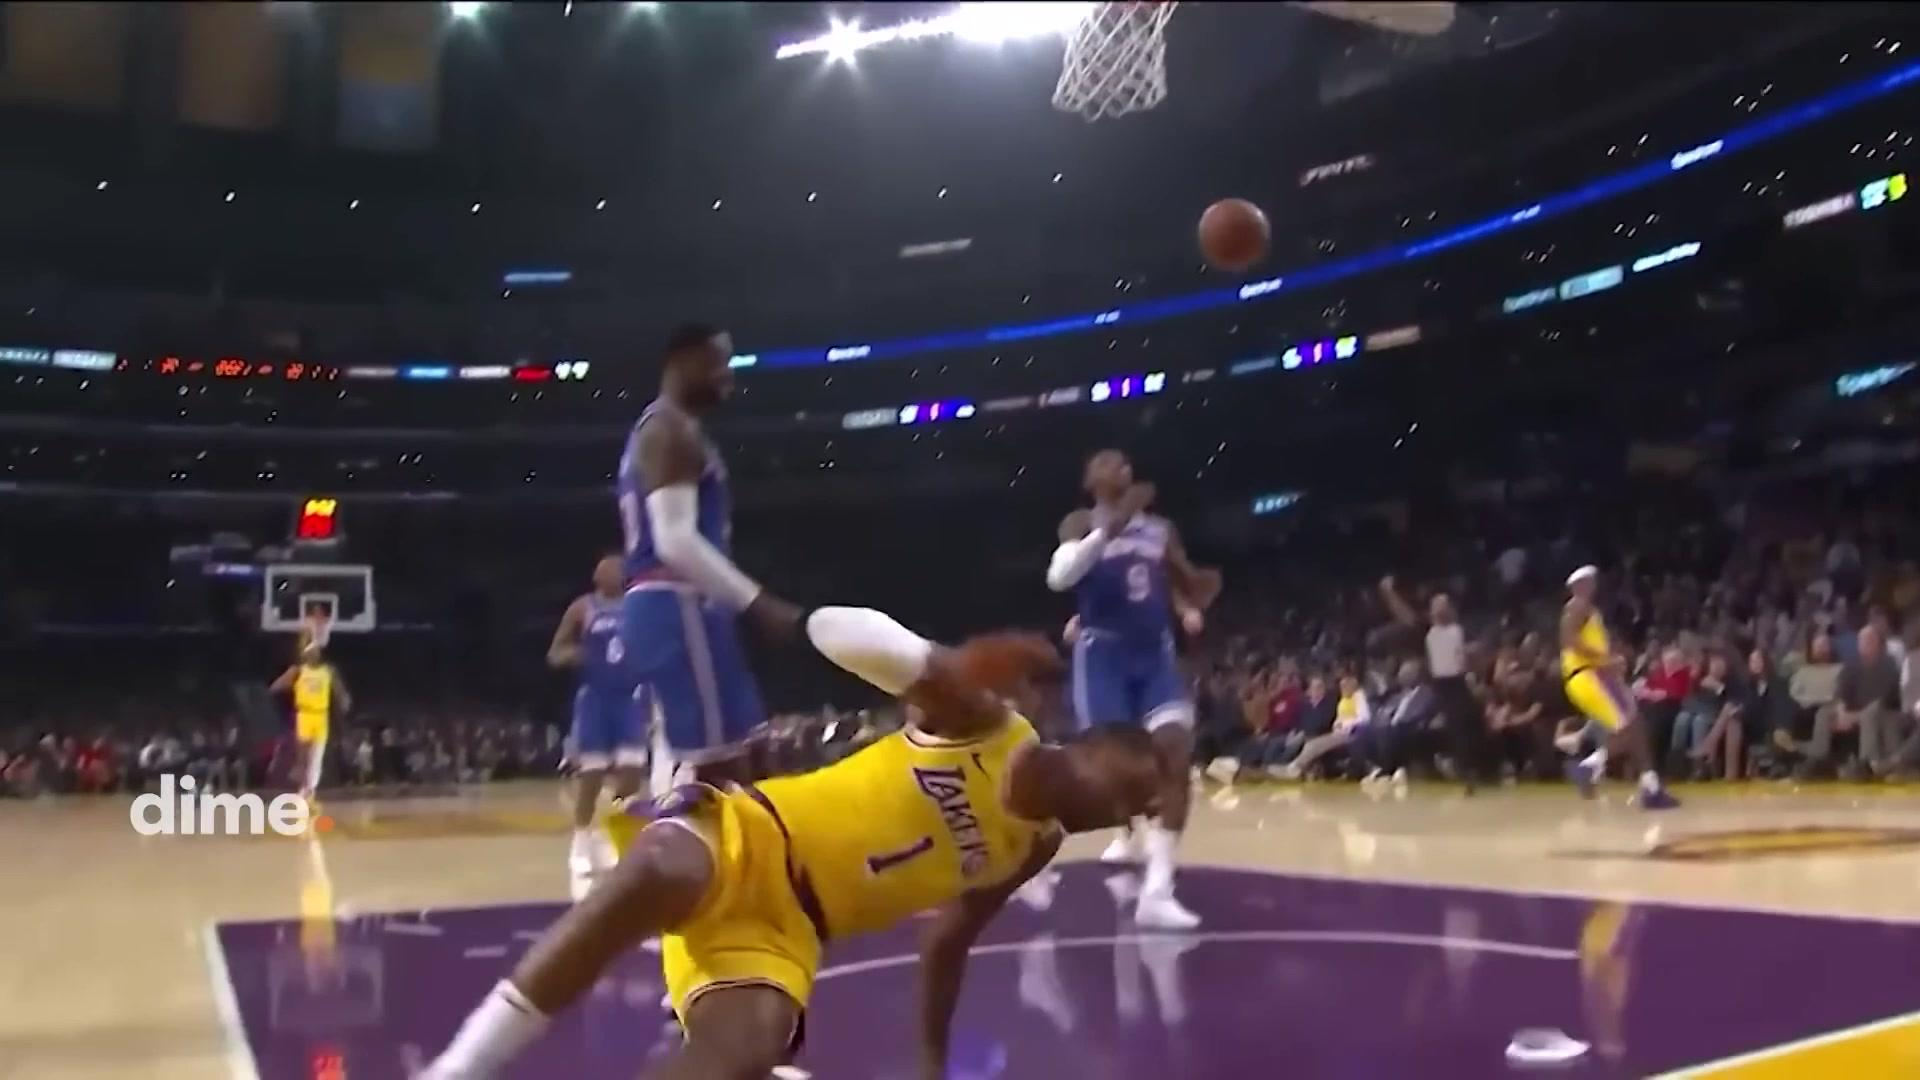no_foul: (464, 585, 1171, 1080)
